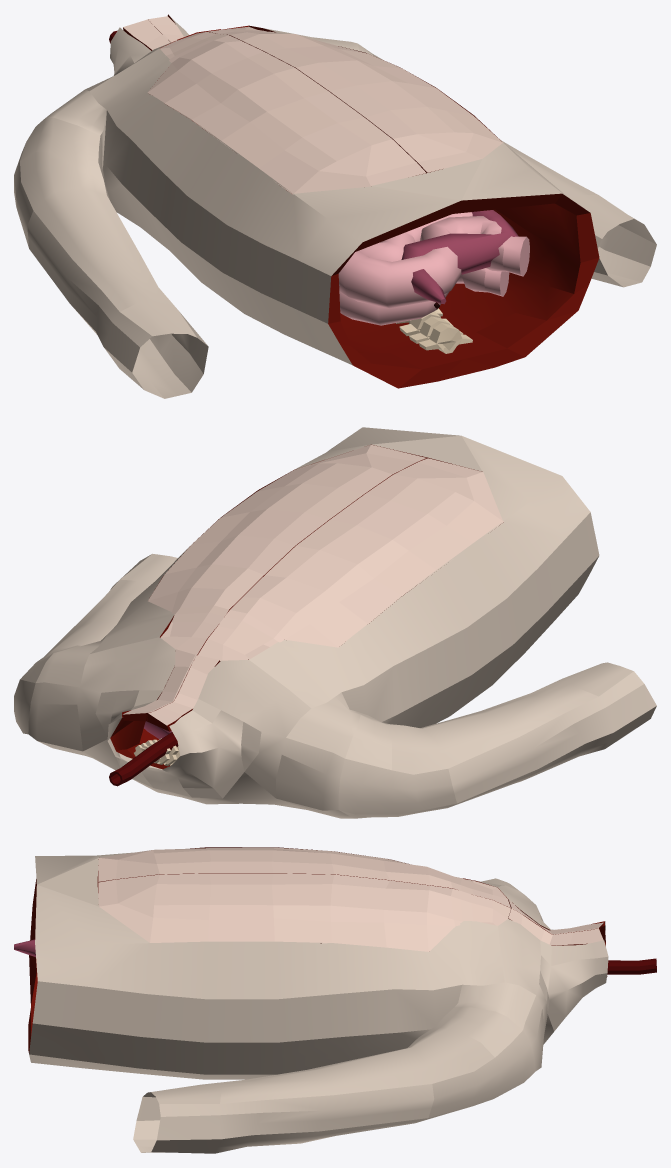
The model's file is BODY_TEXTURE.fbx.
3 views of the same model, one above another, from view 1: azimuth 30°, elevation 25°; view 2: azimuth 150°, elevation 25°; view 3: azimuth 270°, elevation 25° (orthographic). The views are drawn at different scales.
Parts seen in each view (by area): view 1: BodyMesh, Ventre_Gauche, Ventre_Droit, Intestin_1, Intestin_Grele, Intestin_2, Cou_Gauche, poumon:poumon:Vert_Tho_03; view 2: BodyMesh, Ventre_Gauche, Ventre_Droit, Cou_Gauche, Cou_Droit, Oseo; view 3: BodyMesh, Ventre_Droit, Ventre_Gauche, Cou_Droit, Oseo, Cou_Gauche.
Boxes of the visible parts, x1,y1,x2,y2 form: BodyMesh: (14, 14, 656, 398); Ventre_Gauche: (147, 32, 426, 194); Ventre_Droit: (207, 26, 503, 172); Intestin_1: (338, 212, 529, 308); Intestin_Grele: (401, 210, 518, 304); Intestin_2: (339, 268, 509, 325); Cou_Gauche: (123, 19, 197, 50); poumon:poumon:Vert_Tho_03: (418, 323, 455, 350); BodyMesh: (14, 427, 656, 818); Ventre_Gauche: (198, 458, 503, 661); Ventre_Droit: (148, 445, 426, 655); Cou_Gauche: (146, 655, 219, 731); Cou_Droit: (122, 649, 196, 721); Oseo: (109, 732, 178, 786); BodyMesh: (28, 847, 608, 1153); Ventre_Droit: (98, 873, 510, 951); Ventre_Gauche: (98, 847, 510, 908); Cou_Droit: (508, 908, 603, 945); Oseo: (607, 958, 656, 974); Cou_Gauche: (508, 899, 603, 934).
Size of the model in its own units: 19.26 by 7.08 by 22.79.
